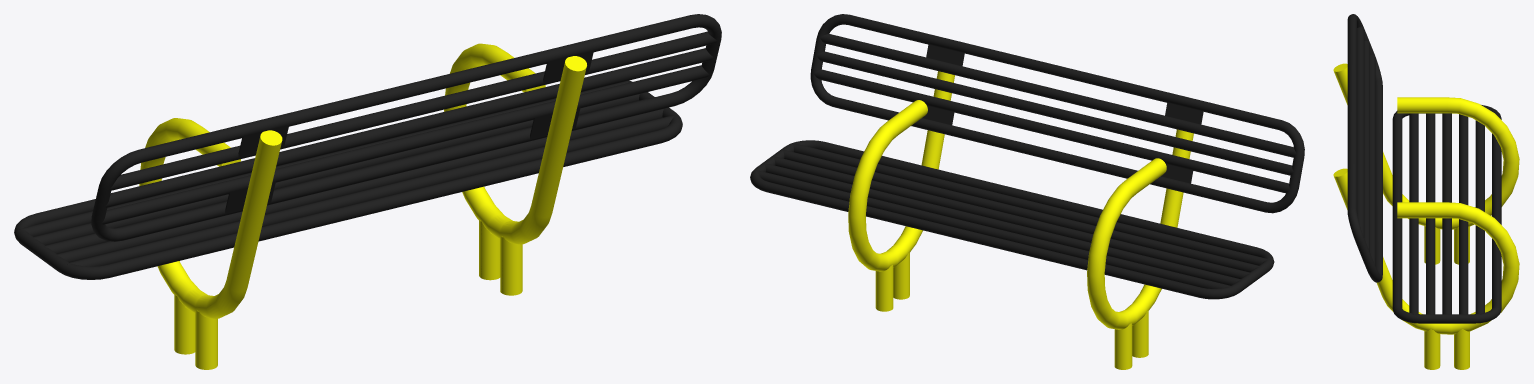
3 views of the same model, side by side, from view 1: azimuth 30°, elevation 25°; view 2: azimuth 150°, elevation 25°; view 3: azimuth 270°, elevation 25° (orthographic). The views are drawn at different scales.
Visible parts, largest first — view 1: mesh39_mesh39-geometry, mesh32_mesh32-geometry, mesh23_mesh23-geometry, mesh12_mesh12-geometry, mesh1_mesh1-geometry, mesh33_mesh33-geometry, mesh40_mesh40-geometry, mesh5_mesh5-geometry, mesh16_mesh16-geometry, mesh17_mesh17-geometry, mesh6_mesh6-geometry, mesh24_mesh24-geometry (+6 smaller); view 2: mesh39_mesh39-geometry, mesh32_mesh32-geometry, mesh23_mesh23-geometry, mesh12_mesh12-geometry, mesh1_mesh1-geometry, mesh33_mesh33-geometry, mesh40_mesh40-geometry, mesh3_mesh3-geometry, mesh4_mesh4-geometry, mesh6_mesh6-geometry, mesh14_mesh14-geometry, mesh15_mesh15-geometry (+7 smaller); view 3: mesh23_mesh23-geometry, mesh32_mesh32-geometry, mesh39_mesh39-geometry, mesh1_mesh1-geometry, mesh12_mesh12-geometry, mesh4_mesh4-geometry, mesh6_mesh6-geometry, mesh5_mesh5-geometry, mesh3_mesh3-geometry, mesh24_mesh24-geometry, mesh15_mesh15-geometry, mesh16_mesh16-geometry (+7 smaller).
Part boxes in pixels (left/top/right/bottom): mesh39_mesh39-geometry: left=91, top=82, right=418, bottom=241; mesh32_mesh32-geometry: left=397, top=14, right=721, bottom=173; mesh23_mesh23-geometry: left=139, top=43, right=586, bottom=318; mesh12_mesh12-geometry: left=14, top=197, right=386, bottom=279; mesh1_mesh1-geometry: left=383, top=81, right=682, bottom=210; mesh33_mesh33-geometry: left=406, top=48, right=713, bottom=133; mesh40_mesh40-geometry: left=105, top=121, right=409, bottom=207; mesh5_mesh5-geometry: left=371, top=115, right=677, bottom=199; mesh16_mesh16-geometry: left=67, top=189, right=375, bottom=266; mesh17_mesh17-geometry: left=56, top=182, right=363, bottom=262; mesh6_mesh6-geometry: left=361, top=109, right=663, bottom=190; mesh24_mesh24-geometry: left=195, top=236, right=522, bottom=369; mesh39_mesh39-geometry: left=1048, top=67, right=1304, bottom=213; mesh32_mesh32-geometry: left=810, top=14, right=1065, bottom=159; mesh23_mesh23-geometry: left=848, top=71, right=1193, bottom=329; mesh12_mesh12-geometry: left=982, top=194, right=1274, bottom=299; mesh1_mesh1-geometry: left=750, top=140, right=1040, bottom=244; mesh33_mesh33-geometry: left=816, top=51, right=1058, bottom=118; mesh40_mesh40-geometry: left=1055, top=108, right=1293, bottom=175; mesh3_mesh3-geometry: left=764, top=163, right=1003, bottom=229; mesh4_mesh4-geometry: left=773, top=156, right=1012, bottom=222; mesh6_mesh6-geometry: left=782, top=150, right=1021, bottom=215; mesh14_mesh14-geometry: left=1000, top=221, right=1241, bottom=285; mesh15_mesh15-geometry: left=1009, top=214, right=1250, bottom=278; mesh23_mesh23-geometry: left=1333, top=63, right=1519, bottom=334; mesh32_mesh32-geometry: left=1347, top=111, right=1382, bottom=282; mesh39_mesh39-geometry: left=1347, top=14, right=1382, bottom=179; mesh1_mesh1-geometry: left=1392, top=209, right=1501, bottom=323; mesh12_mesh12-geometry: left=1392, top=105, right=1501, bottom=213; mesh4_mesh4-geometry: left=1442, top=218, right=1451, bottom=314; mesh6_mesh6-geometry: left=1426, top=218, right=1435, bottom=314; mesh5_mesh5-geometry: left=1409, top=218, right=1418, bottom=314; mesh3_mesh3-geometry: left=1459, top=219, right=1468, bottom=314; mesh24_mesh24-geometry: left=1424, top=226, right=1440, bottom=369; mesh15_mesh15-geometry: left=1442, top=113, right=1451, bottom=202; mesh16_mesh16-geometry: left=1409, top=113, right=1418, bottom=202.
Bounding box in the file's own units: 0.8672 × 0.3825 × 0.3189.
